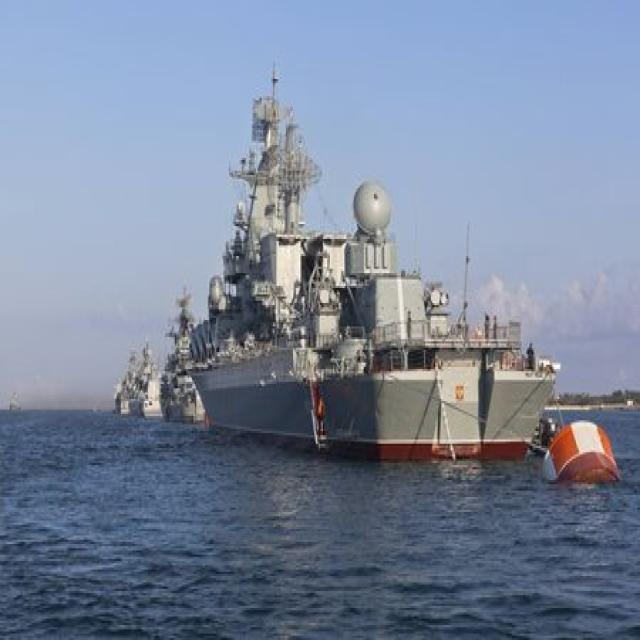navalvessels: (159, 110, 554, 458), (161, 255, 203, 414), (132, 335, 160, 429)
